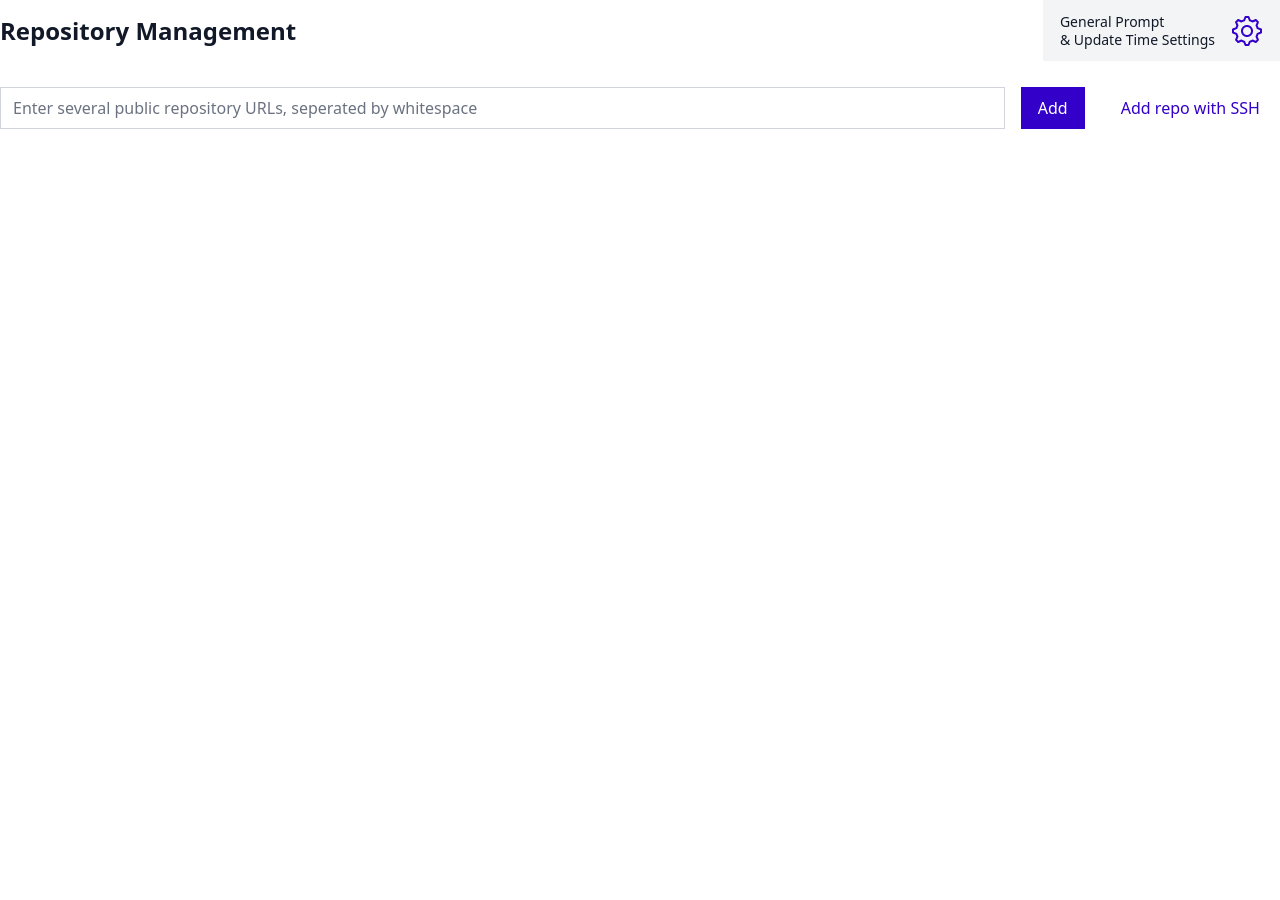
Test case: AdminRepoHeader - Integration Tests › opens SSH popup when Add repo with SSH button is clicked
Click the button "Add repo with SSH": (1190, 108) x1=1101 y1=85 x2=1279 y2=130
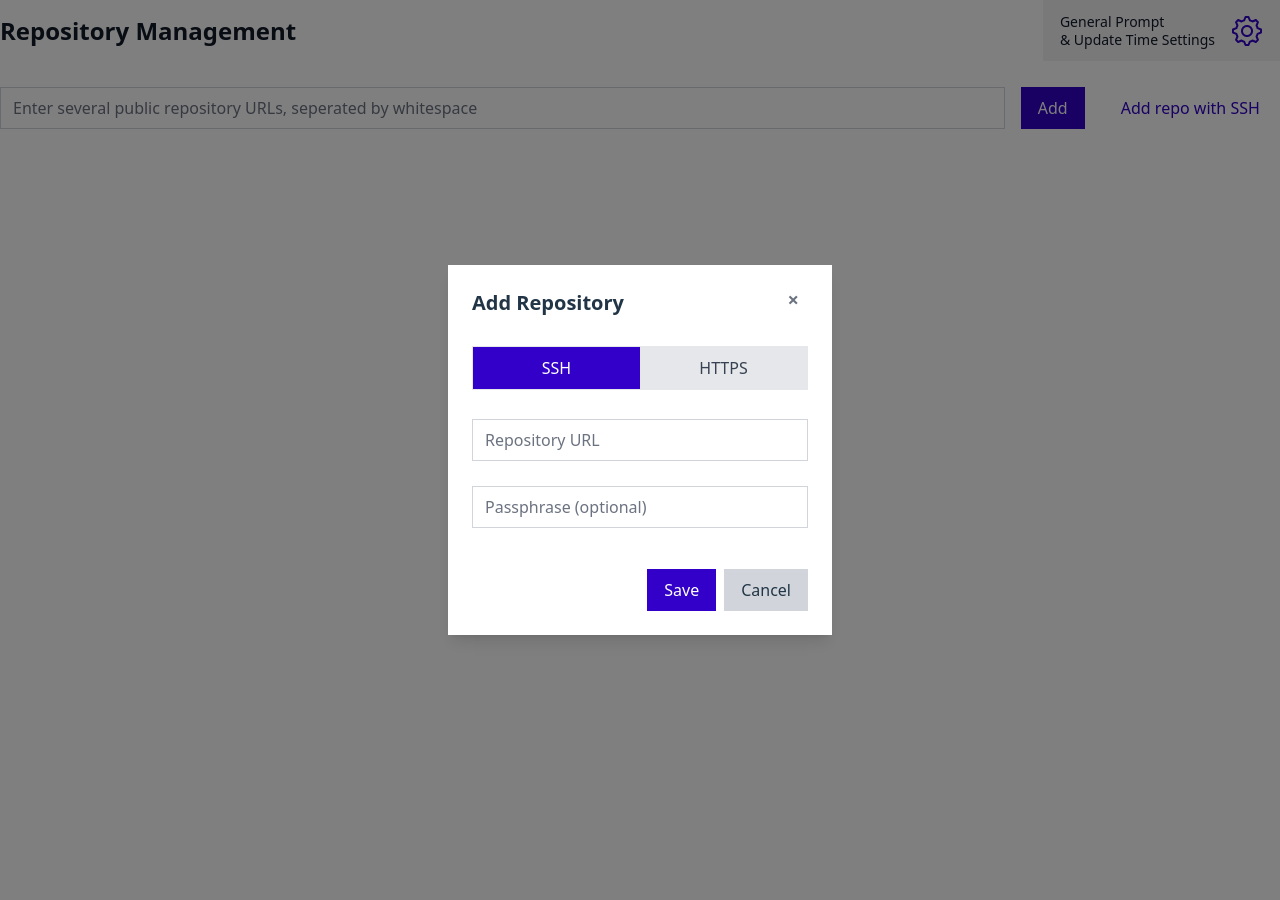
Result: the heading "Add Repository" is shown at x1=472 y1=289 x2=624 y2=316
Result: the field with placeholder "Repository URL" is shown at x1=472 y1=419 x2=808 y2=461
